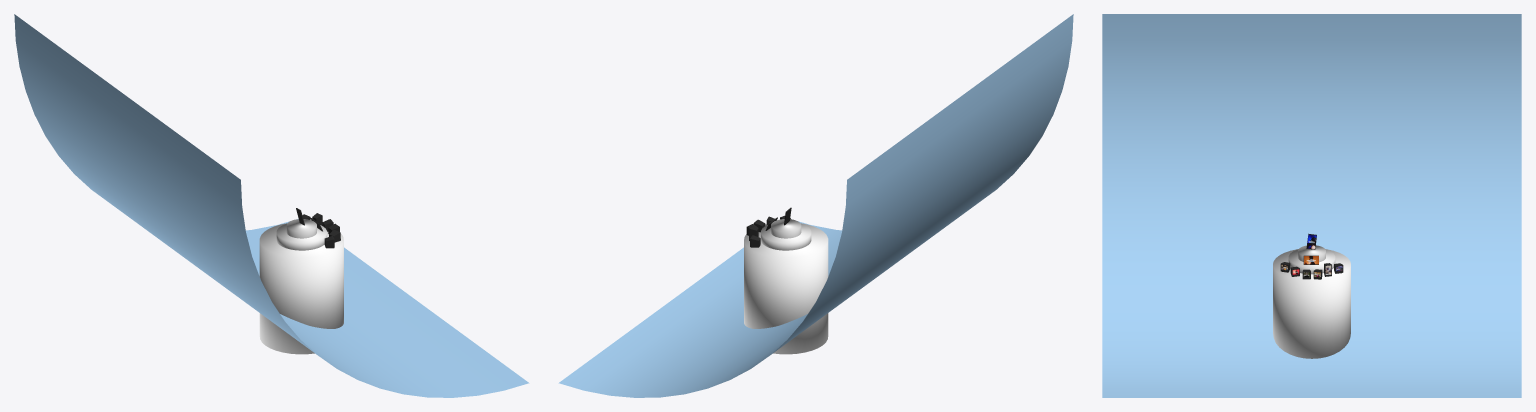
Rendered from NewWebPage-gITFBinary-v3.glb.
3 views of the same model, side by side, from view 1: azimuth 30°, elevation 25°; view 2: azimuth 150°, elevation 25°; view 3: azimuth 270°, elevation 25° (orthographic). The views are drawn at different scales.
Visible parts, largest first — view 1: Cyclorama, Stand.Base, Stand.Mid, Stand.Top; view 2: Cyclorama, Stand.Base, Stand.Mid, Stand.Top; view 3: Cyclorama, Stand.Base, Stand.Mid.
Boxes of the visible parts, box(x1,y1,x2,y2) form: Cyclorama: box(14, 14, 529, 397); Stand.Base: box(259, 223, 343, 354); Stand.Mid: box(276, 223, 326, 250); Stand.Top: box(286, 219, 316, 238); Cyclorama: box(558, 14, 1073, 397); Stand.Base: box(744, 223, 828, 354); Stand.Mid: box(761, 223, 811, 250); Stand.Top: box(771, 219, 801, 238); Cyclorama: box(1102, 14, 1521, 397); Stand.Base: box(1273, 249, 1350, 358); Stand.Mid: box(1288, 249, 1335, 274).
Size of the model in its own units: 27.54 by 25.73 by 37.43.
16 materials, 8 textured.
